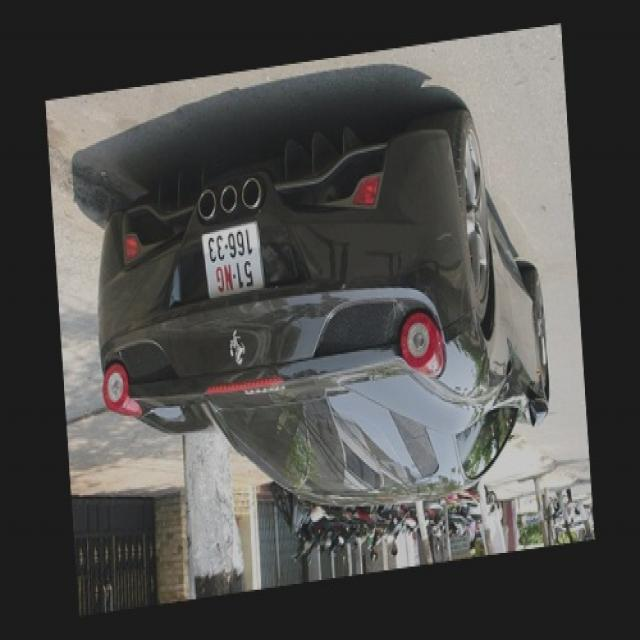bien_ngoai_giao: (195, 224, 266, 298)
